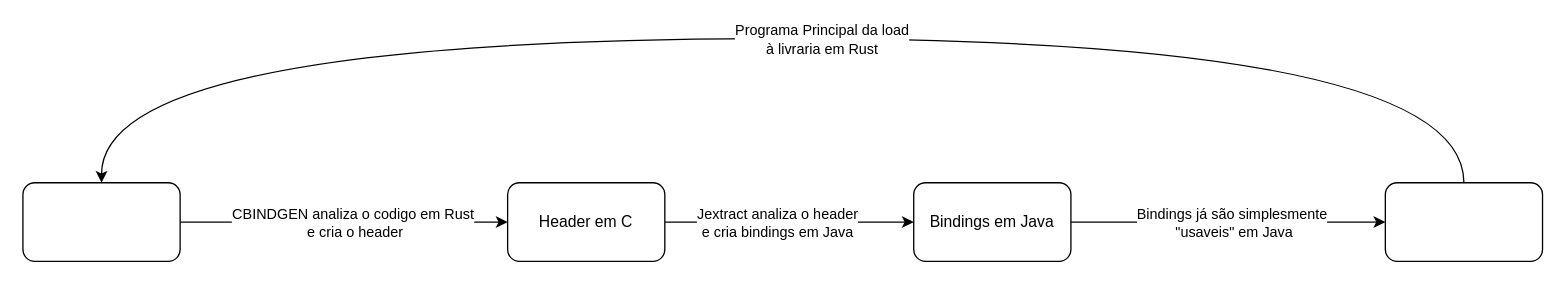
The diagram is 1565 pixels wide and 284 high, and some of its shapes have lost their labels. Here are the shapes that lost their labels. From the top down, the centre of each, then its label:
the point at 101,221: Livraria em Rust
the point at 1463,221: Programa Principal em Java
